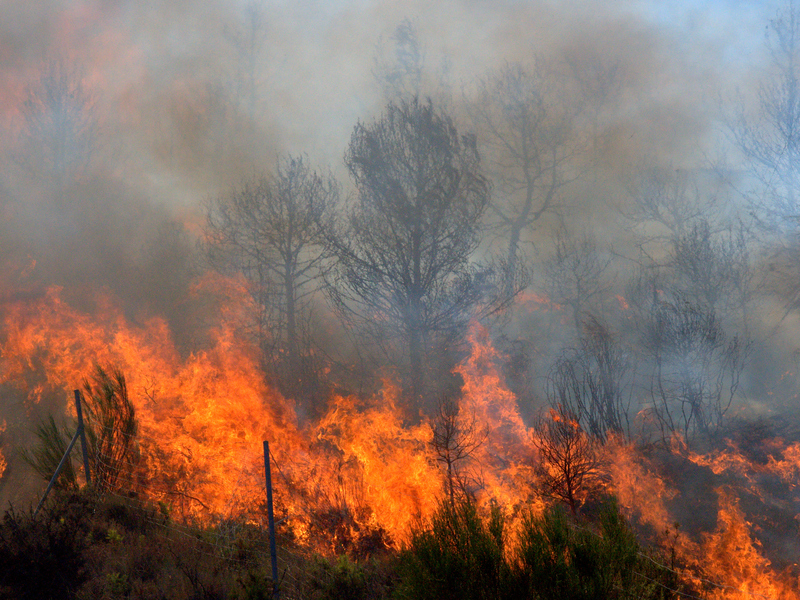fire: (50, 318, 590, 552)
